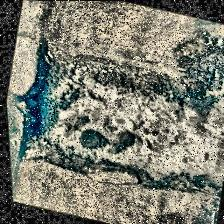pothole: (2, 32, 224, 208)
